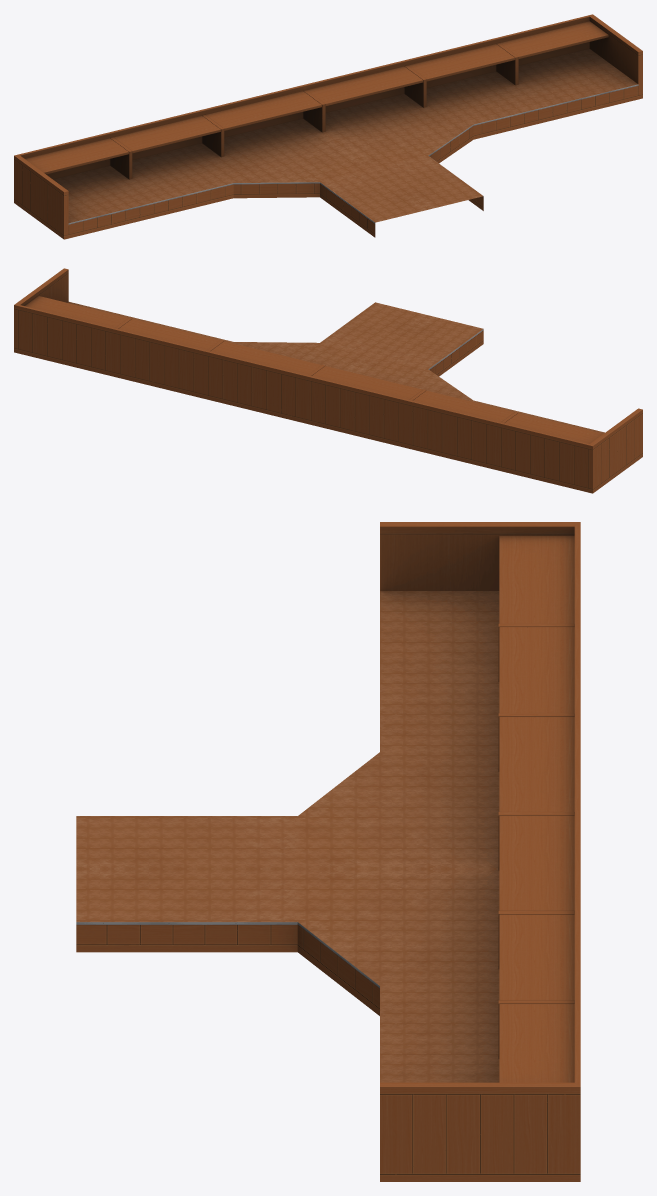
File: Desk_WoodLarge.DAE
3 views of the same model, one above another, from view 1: azimuth 30°, elevation 25°; view 2: azimuth 150°, elevation 25°; view 3: azimuth 270°, elevation 25° (orthographic). The views are drawn at different scales.
Visible parts, largest first — view 1: Desk_WoodLarge; view 2: Desk_WoodLarge; view 3: Desk_WoodLarge.
Boxes of the visible parts, x1,y1,x2,y2 form: Desk_WoodLarge: (14, 14, 642, 239); Desk_WoodLarge: (14, 268, 642, 493); Desk_WoodLarge: (76, 522, 580, 1181).
Bounding box in the file's own units: 630 × 238 × 49.29.
Materials: 1 (1 with a texture image).
